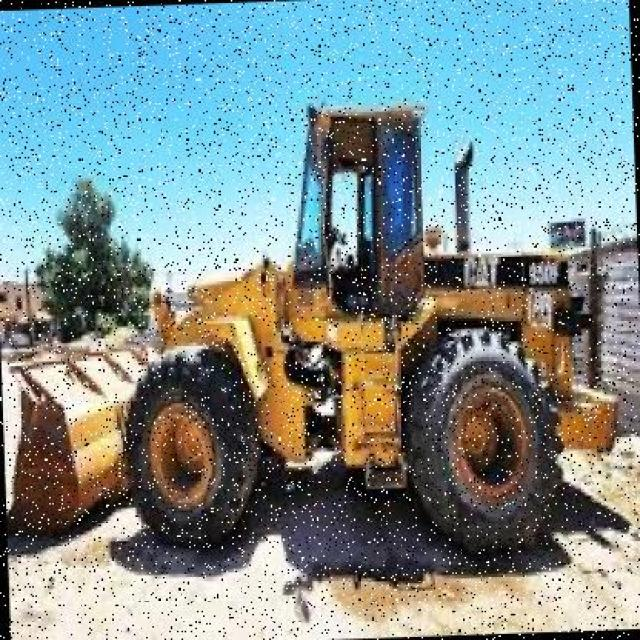buldozerpayloadergrader: (0, 70, 623, 576)
